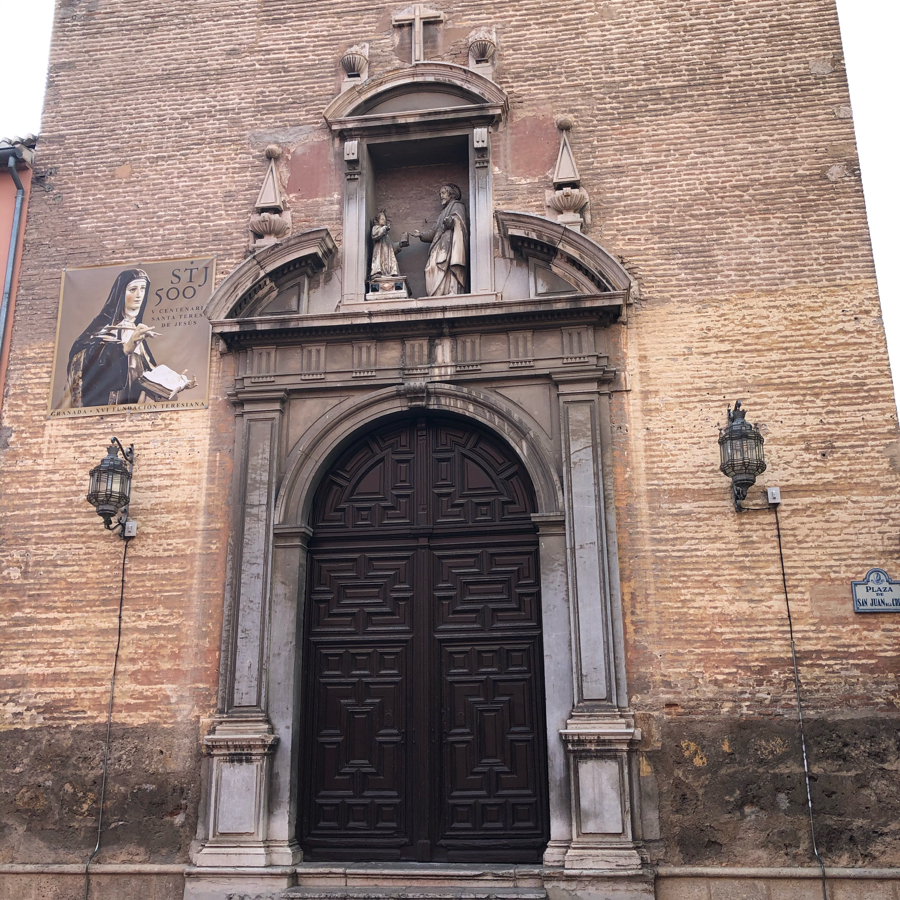arco-medio-punto: (295, 394, 548, 555)
fronton-curvo: (317, 63, 517, 133)
fronton-partido: (194, 209, 643, 334)
vano-adintelado: (348, 126, 485, 295)
